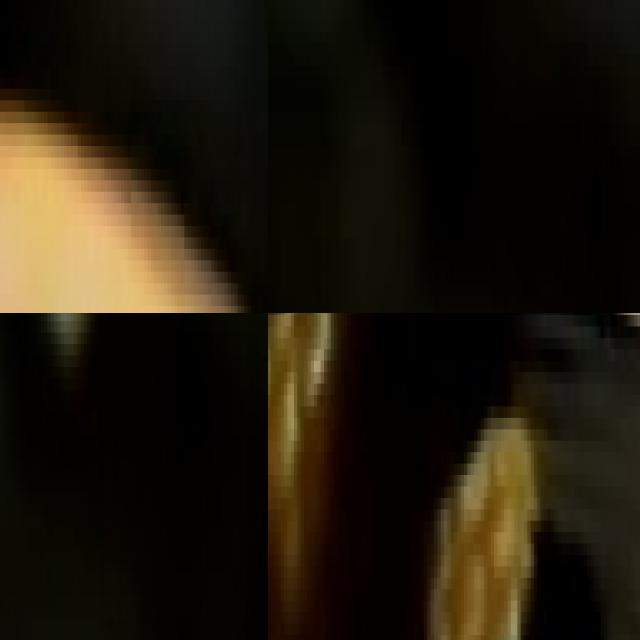fish: (268, 313, 640, 640), (0, 0, 268, 313)
